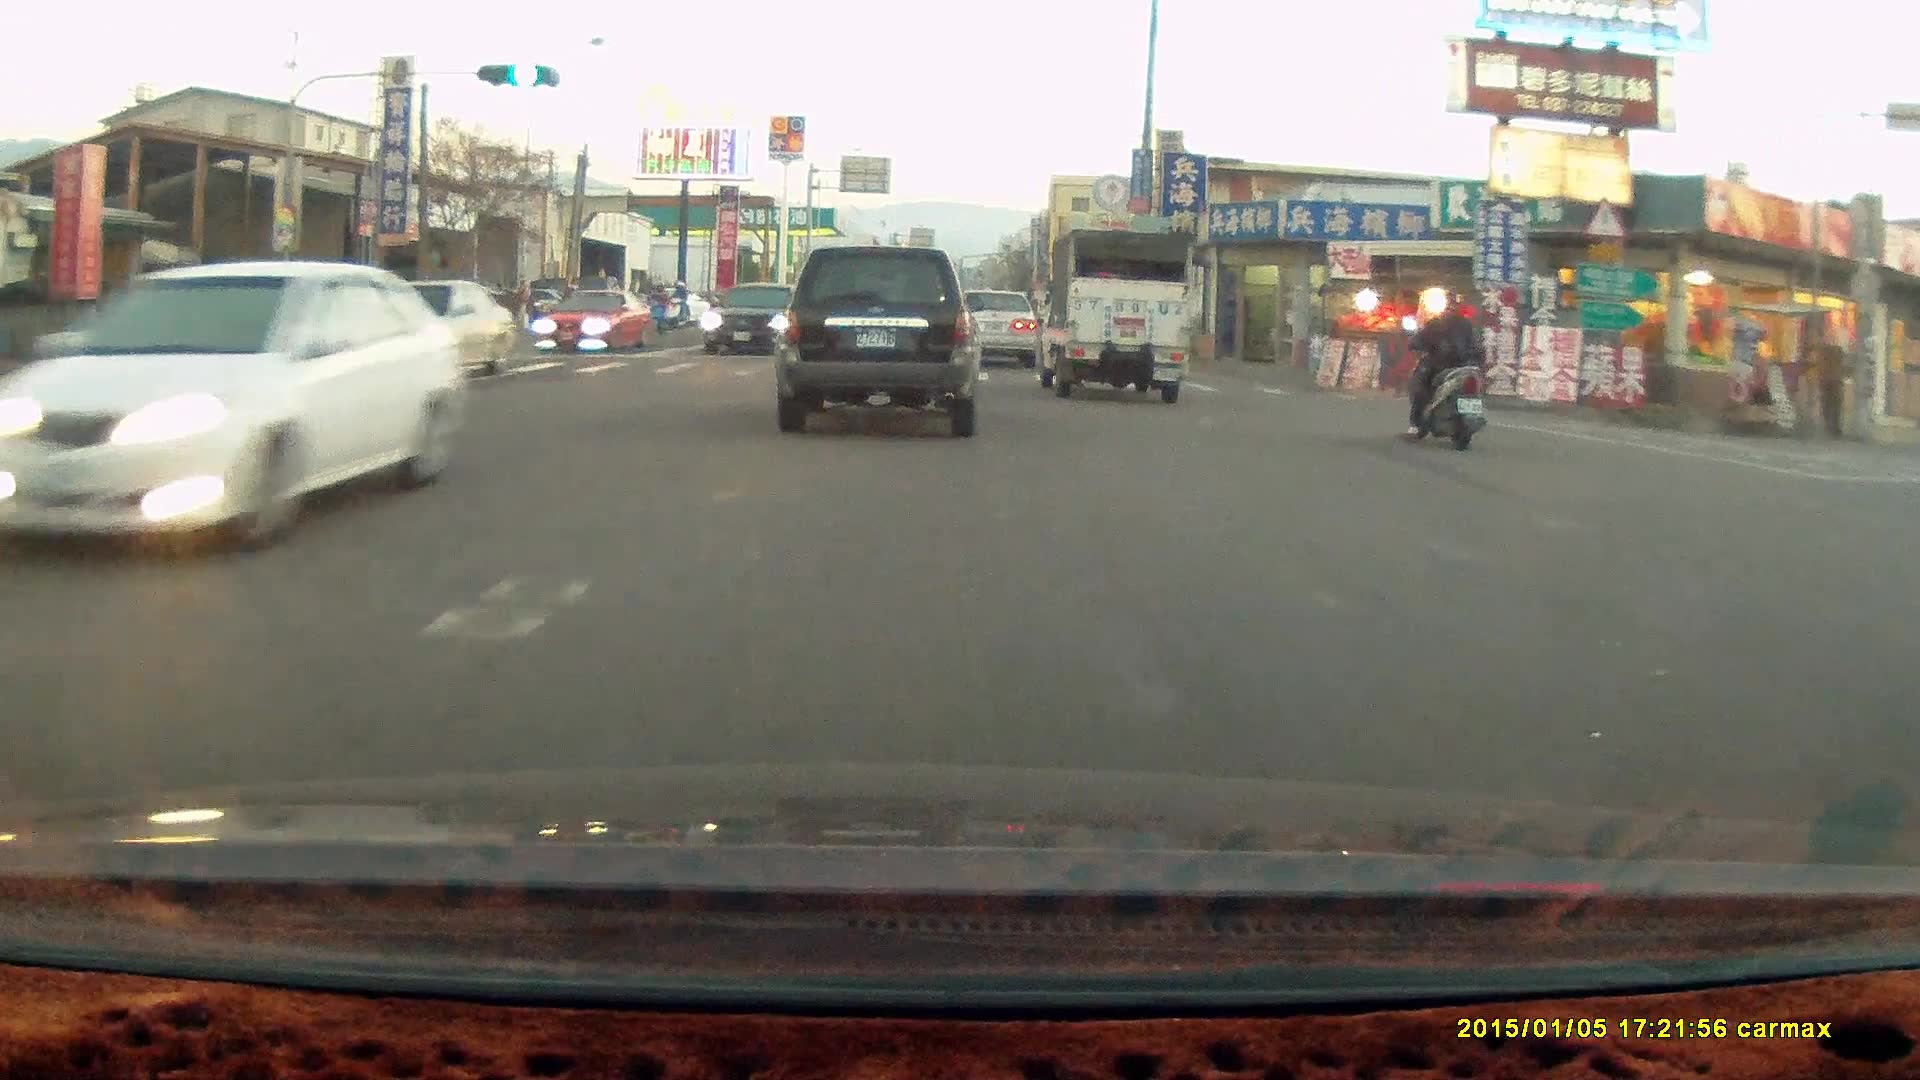rider: (1398, 283, 1486, 444), (640, 282, 674, 330), (659, 279, 690, 329)
vehicle: (13, 259, 452, 563), (771, 244, 986, 436), (1029, 227, 1190, 403), (291, 284, 504, 401), (701, 281, 817, 356), (145, 279, 301, 334), (945, 286, 1037, 368), (547, 285, 652, 355), (952, 289, 1041, 371)
